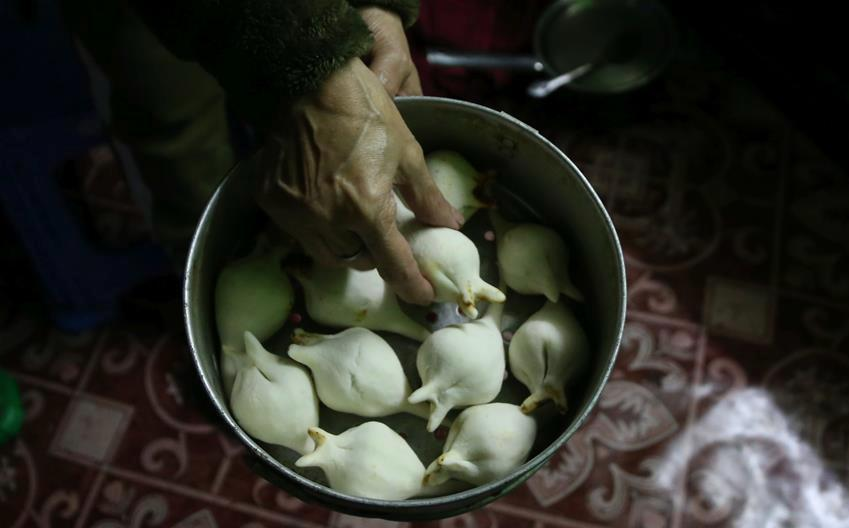yomari: (413, 236, 511, 316), (408, 338, 491, 430), (296, 424, 415, 488), (515, 319, 579, 420), (234, 230, 300, 315), (286, 319, 389, 373), (423, 431, 518, 489), (399, 165, 500, 214), (532, 226, 590, 309), (235, 330, 281, 424)
